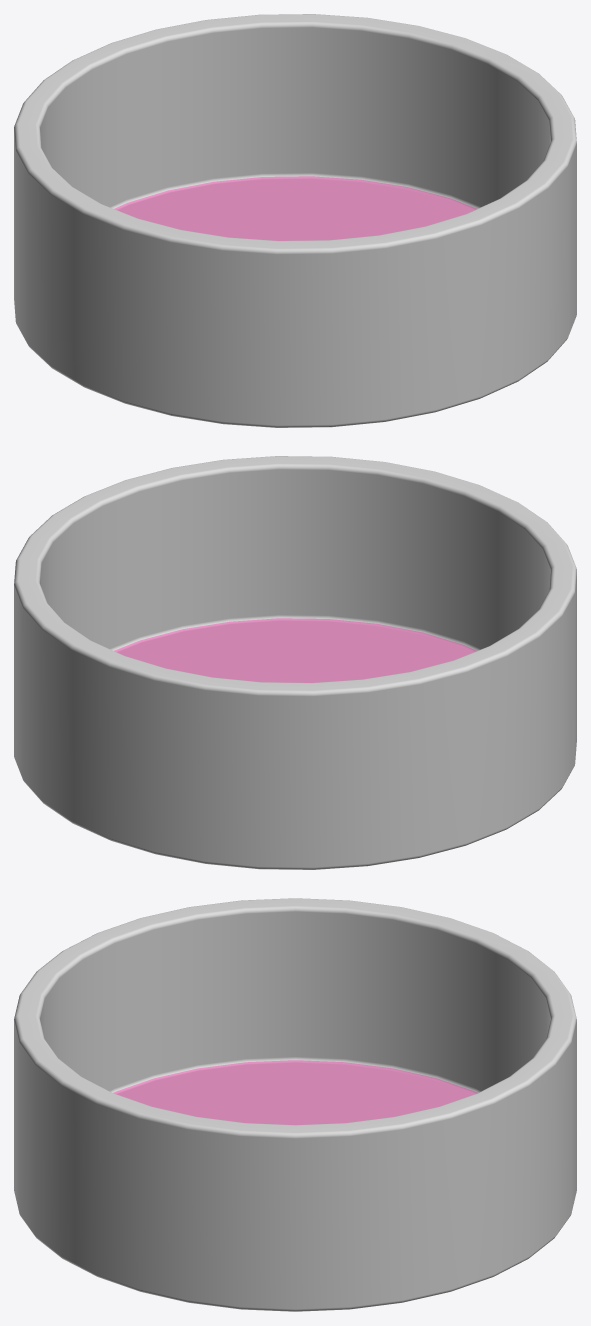
File: Bucket.fbx
3 views of the same model, one above another, from view 1: azimuth 30°, elevation 25°; view 2: azimuth 150°, elevation 25°; view 3: azimuth 270°, elevation 25° (orthographic).
Visible parts, largest first — view 1: Cylinder; view 2: Cylinder; view 3: Cylinder.
Part boxes in pixels (<box>): Cylinder: <box>14,14,576,427</box>; Cylinder: <box>14,456,576,869</box>; Cylinder: <box>14,898,576,1311</box>.
Bounding box in the file's own units: 200 × 70 × 200.
